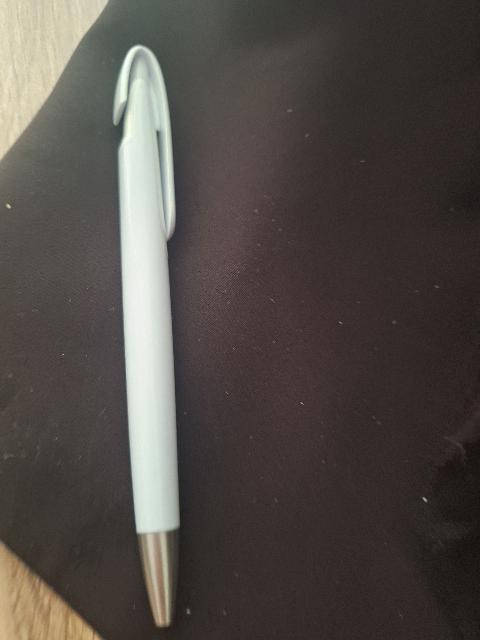writing_tool: (110, 44, 181, 633)
